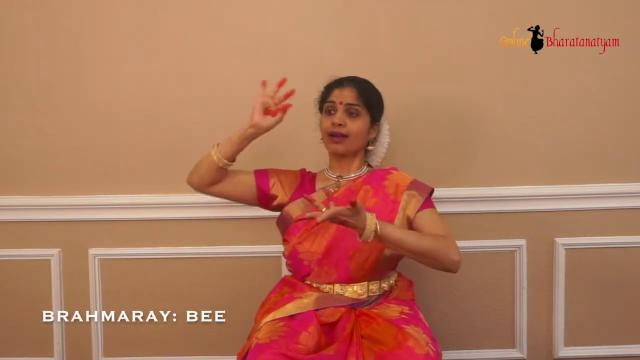bhramara: (238, 51, 308, 159), (294, 182, 374, 244)
